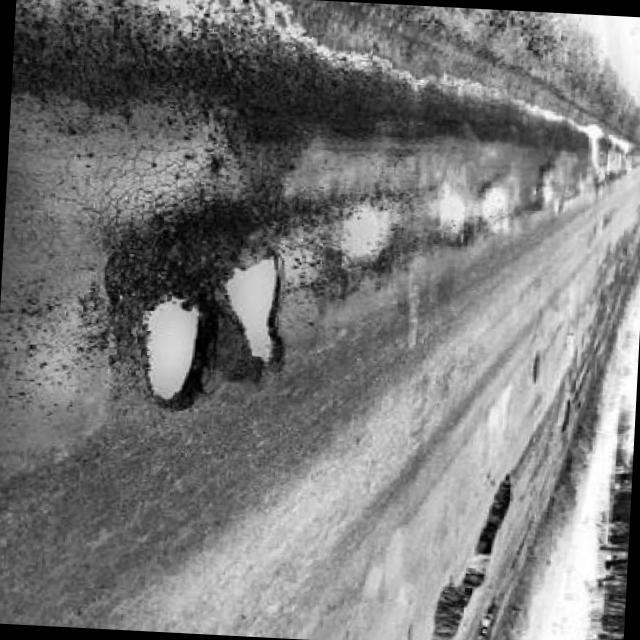pothole: (125, 273, 222, 422), (324, 178, 420, 288), (222, 241, 294, 368)
